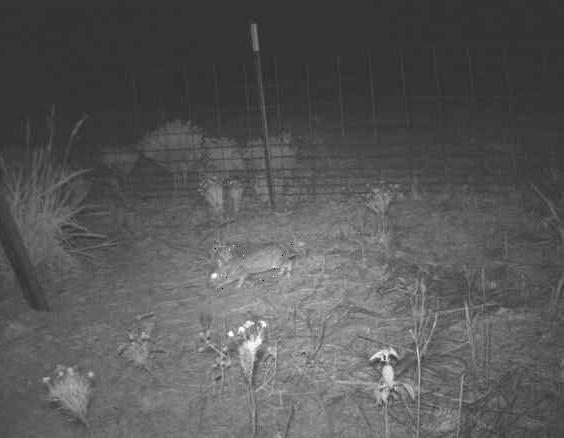Rabbit: (206, 242, 297, 289)
